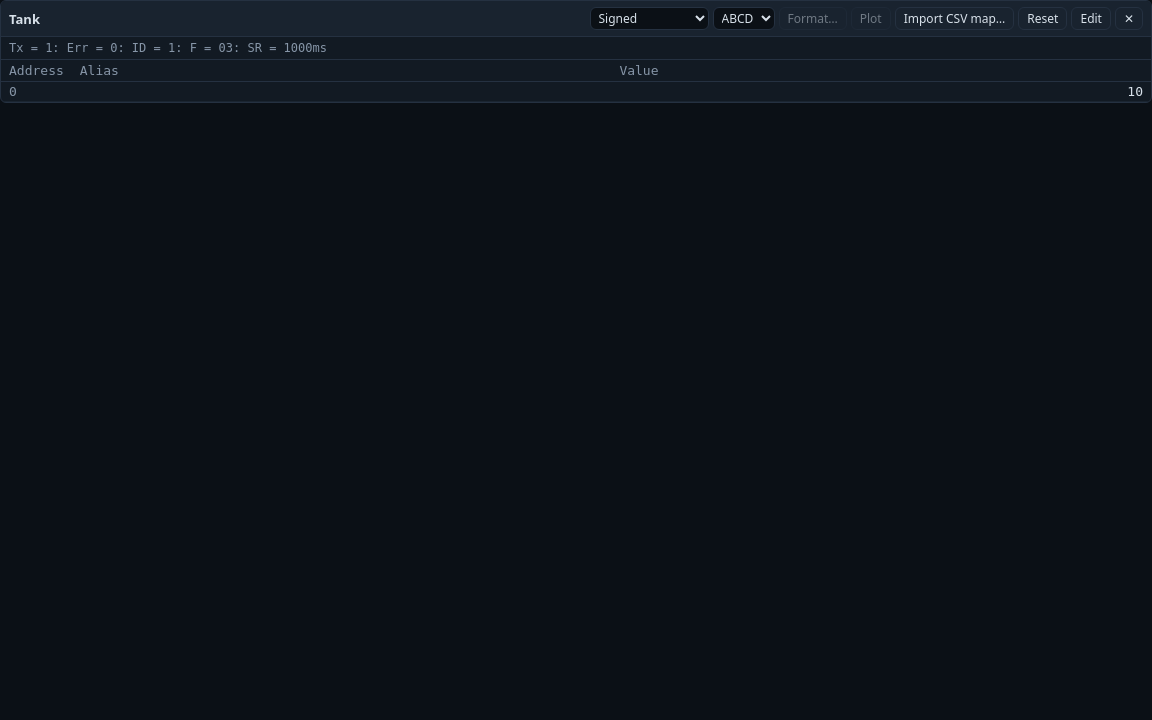
cell formats › rejects a zero scale
Double-click the text "0": (36, 92) [1,82,72,102]
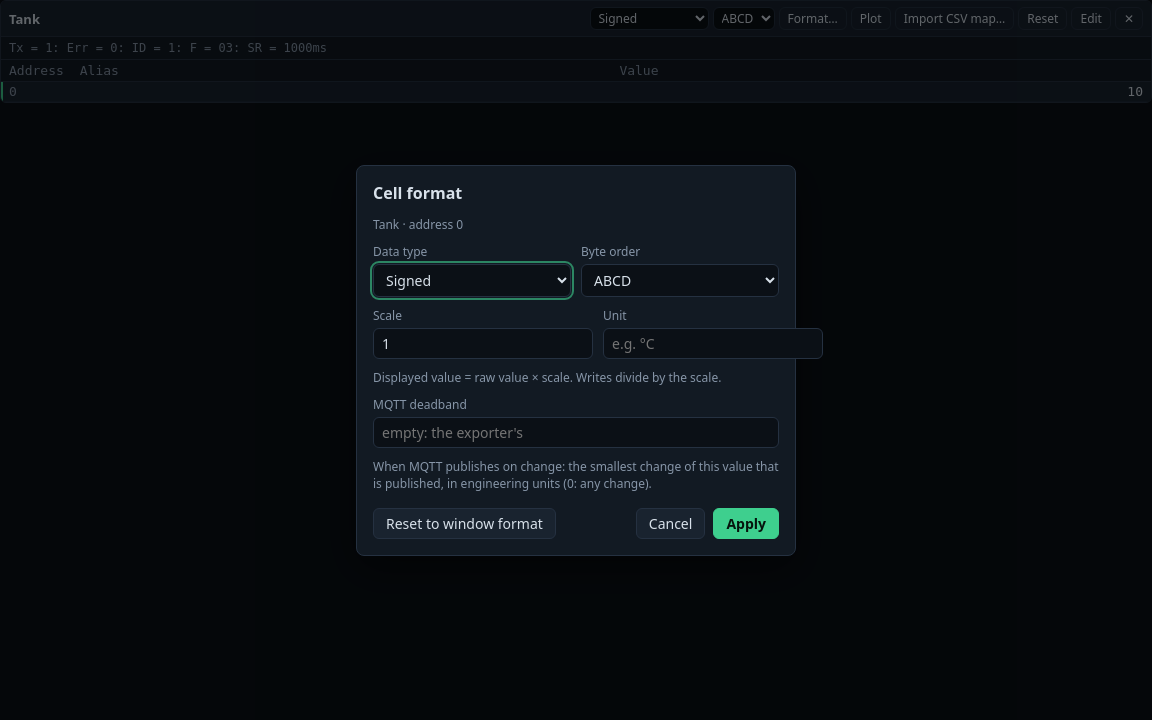
Replace the text in the field labelled "Scale" with "0": (483, 343) [373,328,593,358]
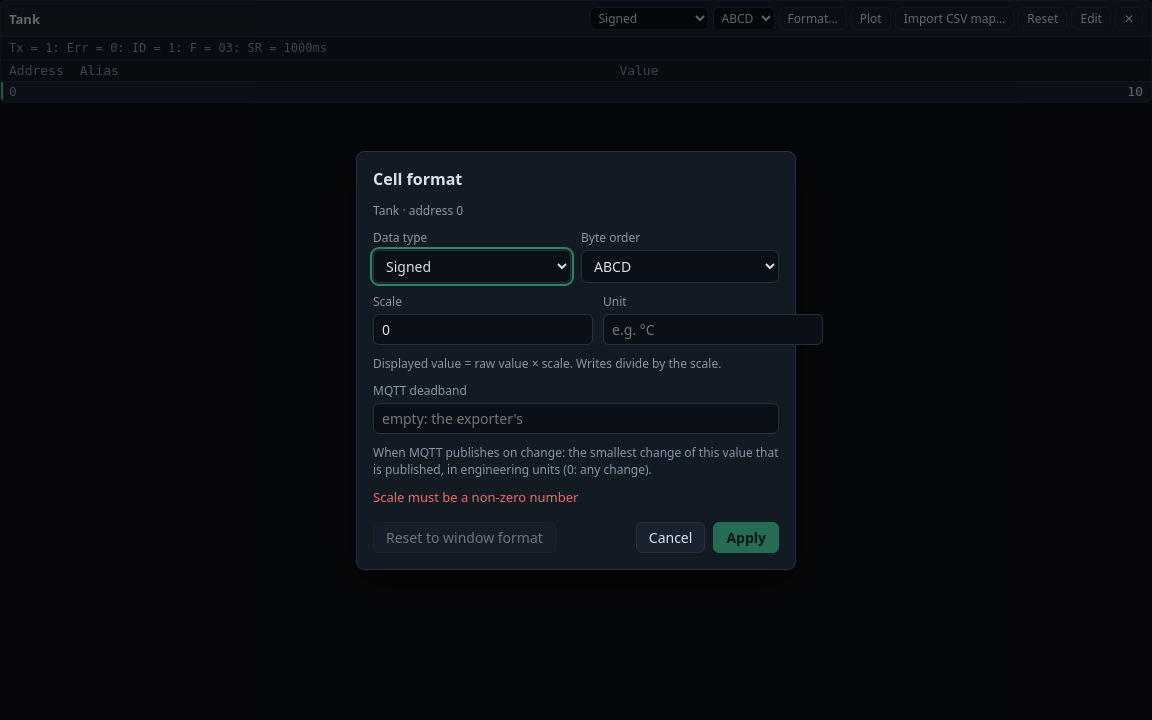
Now the text "Scale must be a non-zero number" is shown, box [373,488,578,506]
Now the button "Apply" is disabled, box [713,522,779,552]
